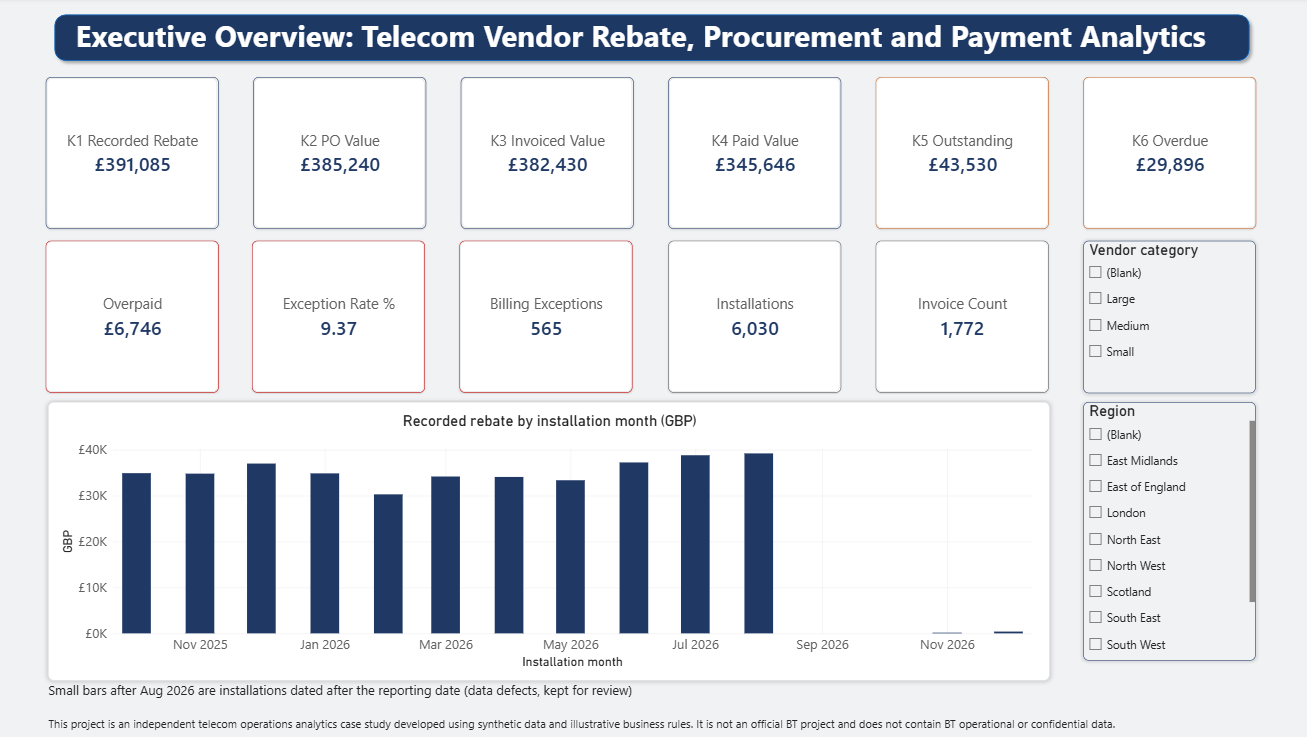

The page's visual inventory and layout, read from the dashboard file:
{"tool":"powerbi","page":{"name":"1 Executive Overview","canvas":[1920,1080],"ordinal":0},"visuals":[{"type":"cardVisual","fields":{"Data":["_Measures.K1 Recorded Rebate"]},"box":[70.2,115.8,250,220],"z":0},{"type":"cardVisual","fields":{"Data":["_Measures.K3 Invoiced Value"]},"box":[671,115.8,250,220],"z":1000},{"type":"cardVisual","fields":{"Data":["_Measures.K4 Paid Value"]},"box":[971.4,115.8,250,220],"z":2000},{"type":"cardVisual","fields":{"Data":["_Measures.K5 Outstanding"]},"box":[1271.8,115.8,250,220],"z":3000},{"type":"cardVisual","fields":{"Data":["_Measures.K6 Overdue"]},"box":[1572.2,115.8,250,220],"z":4000},{"type":"cardVisual","fields":{"Data":["_Measures.Overpaid"]},"box":[70.6,352.9,250,220],"z":5000},{"type":"cardVisual","fields":{"Data":["_Measures.Installations"]},"box":[972.5,352.9,250,220],"z":6000},{"type":"cardVisual","fields":{"Data":["_Measures.Billing Exceptions"]},"box":[669.6,352.9,250,220],"z":7000},{"type":"cardVisual","fields":{"Data":["_Measures.Invoice Count"]},"box":[1272.2,352.9,250,220],"z":8000},{"type":"cardVisual","fields":{"Data":["_Measures.Exception Rate %"]},"box":[369.2,352.9,250,220],"z":9000},{"type":"clusteredColumnChart","title":"Recorded rebate by installation month (GBP)","fields":{"Category":["dim_date.year_month_key"],"Y":["_Measures.K1 Recorded Rebate"]},"box":[74.2,586.3,1449.5,403.6],"z":10000},{"type":"slicer","fields":{"Values":["dim_vendor.vendor_category"]},"box":[1572.6,352.9,249.7,220.8],"z":11000},{"type":"slicer","fields":{"Values":["dim_vendor.region"]},"box":[1572.6,586.3,249.7,374.6],"z":12000},{"type":"cardVisual","fields":{"Data":["_Measures.K2 PO Value"]},"box":[370.6,115.8,250,220],"z":13000},{"type":"shape","box":[74.2,16.3,1748.1,85.1],"z":14000},{"type":"textbox","box":[74.2,1040.6,1574.4,25.3],"z":15000},{"type":"textbox","box":[114,25.3,1733.7,94.1],"z":16000},{"type":"textbox","box":[74.2,989.9,1103.9,29],"z":17000}]}

Visuals, with their boxes in screenshot pixels (x1, y1, x2, y2), scaled from the page's 1920x1080 canvas onto the 1307x737 screenshot:
cardVisual - _Measures.K1 Recorded Rebate: region(48, 79, 218, 229)
cardVisual - _Measures.K3 Invoiced Value: region(457, 79, 627, 229)
cardVisual - _Measures.K4 Paid Value: region(661, 79, 831, 229)
cardVisual - _Measures.K5 Outstanding: region(866, 79, 1036, 229)
cardVisual - _Measures.K6 Overdue: region(1070, 79, 1240, 229)
cardVisual - _Measures.Overpaid: region(48, 241, 218, 391)
cardVisual - _Measures.Installations: region(662, 241, 832, 391)
cardVisual - _Measures.Billing Exceptions: region(456, 241, 626, 391)
cardVisual - _Measures.Invoice Count: region(866, 241, 1036, 391)
cardVisual - _Measures.Exception Rate %: region(251, 241, 422, 391)
"Recorded rebate by installation month (GBP)" clusteredColumnChart: region(51, 400, 1037, 676)
slicer - dim_vendor.vendor_category: region(1071, 241, 1240, 391)
slicer - dim_vendor.region: region(1071, 400, 1240, 656)
cardVisual - _Measures.K2 PO Value: region(252, 79, 422, 229)
shape: region(51, 11, 1240, 69)
textbox: region(51, 710, 1122, 727)
textbox: region(78, 17, 1258, 81)
textbox: region(51, 676, 802, 695)
